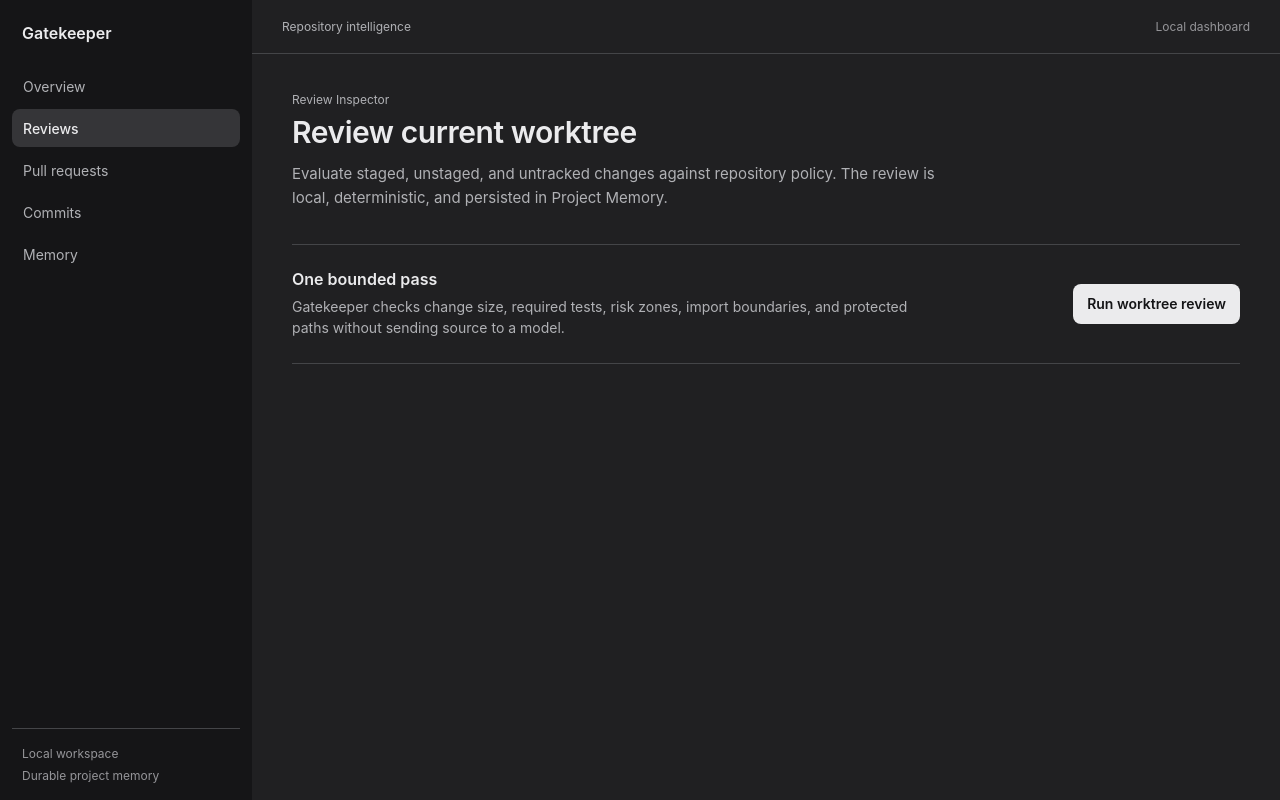
review routes › renders bounded start failures
This screenshot has width=1280, height=800.
Click the button "Run worktree review": (1157, 304) left=1073, top=284, right=1240, bottom=324
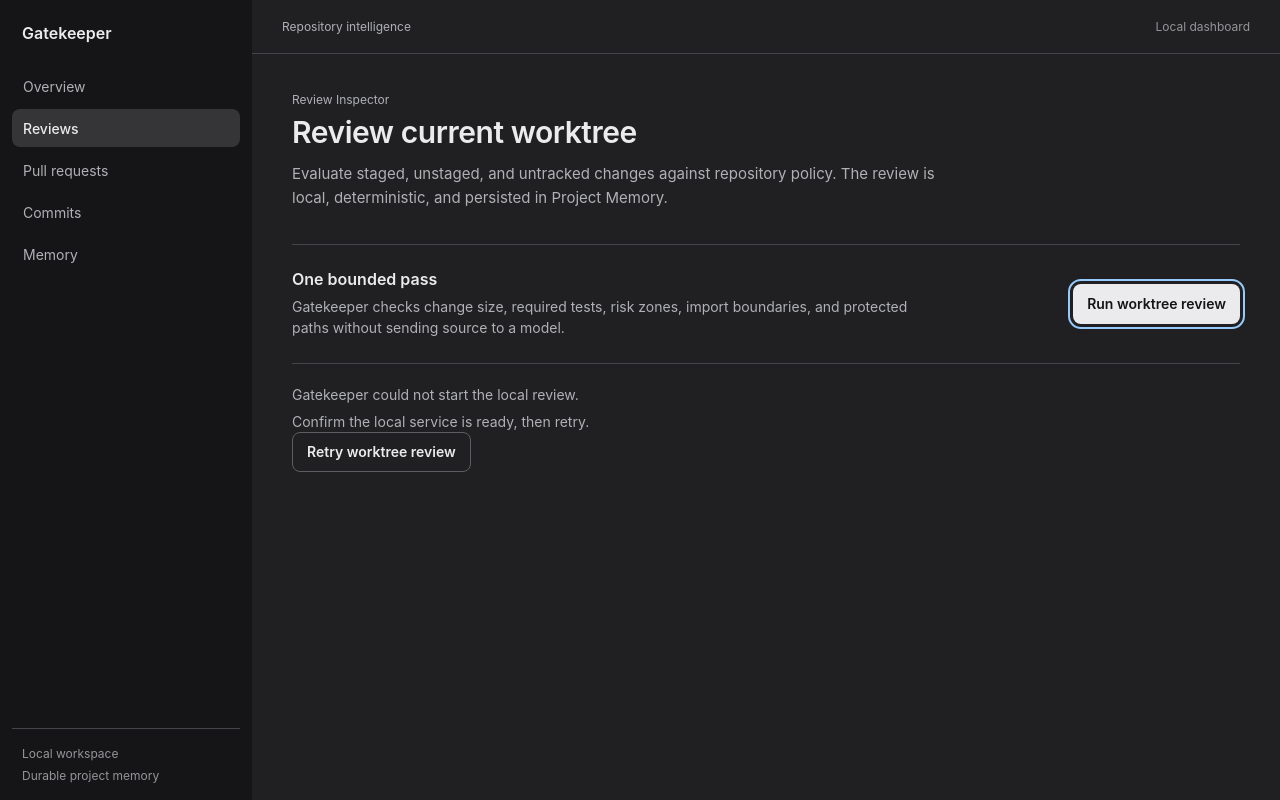
Check: the message does not show "private source detail", box left=292, top=386, right=589, bottom=472
Check: the message shows "Gatekeeper could not start the local review.", box left=292, top=386, right=579, bottom=403
